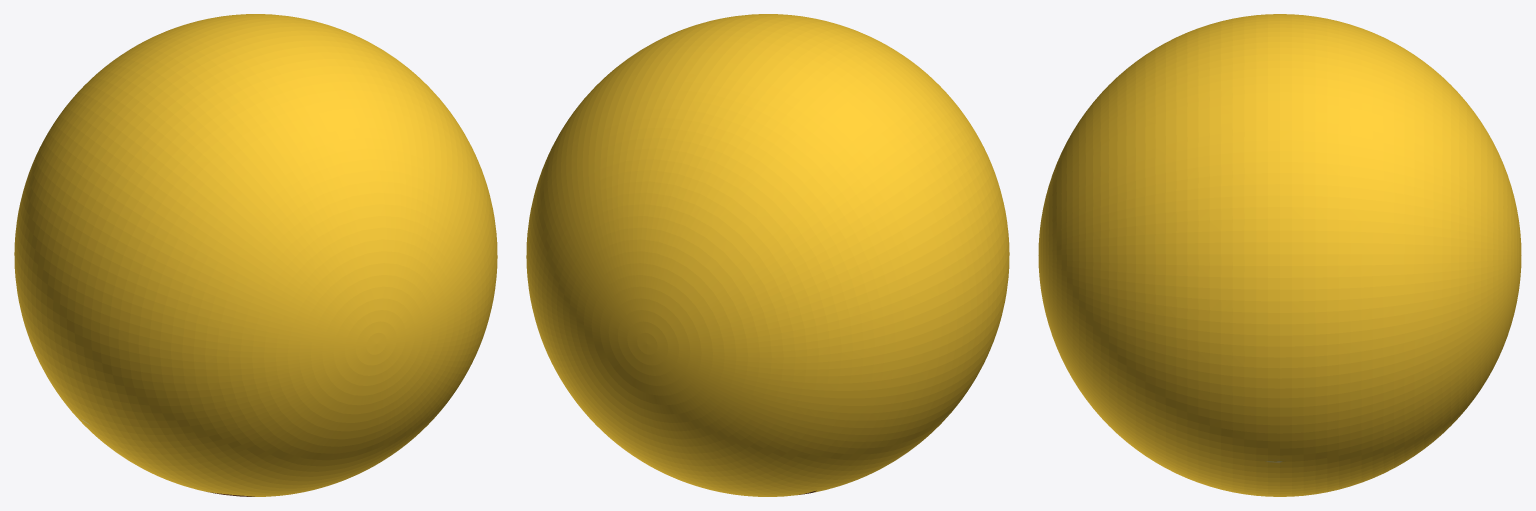
The model's file is wrs_fcsc_emoticon_confused.dae.
3 views of the same model, side by side, from view 1: azimuth 30°, elevation 25°; view 2: azimuth 150°, elevation 25°; view 3: azimuth 270°, elevation 25° (orthographic).
Parts seen in each view (by area): view 1: Sphere; view 2: Sphere; view 3: Sphere.
Part boxes in pixels (box(x1,y1,x2,y2)): Sphere: box(14, 14, 497, 496); Sphere: box(526, 14, 1009, 496); Sphere: box(1038, 14, 1521, 496).
Bounding box in the file's own units: 0.2 × 0.2 × 0.2.
Materials: 1 (1 with a texture image).
